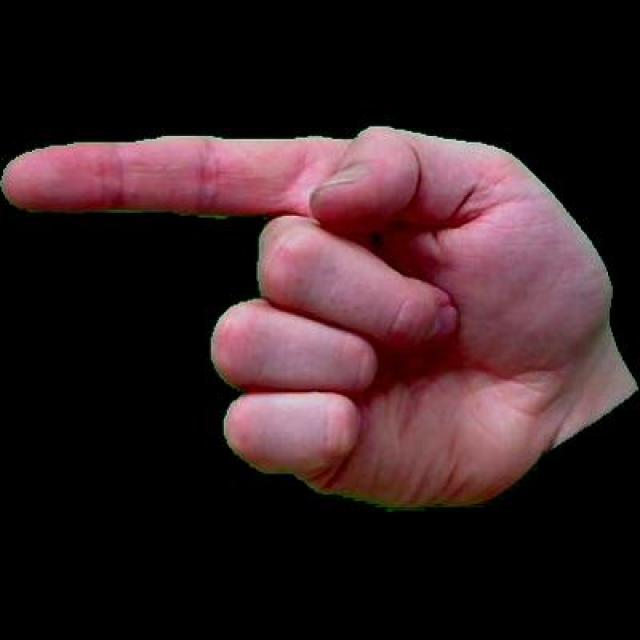g: (0, 99, 637, 515)
